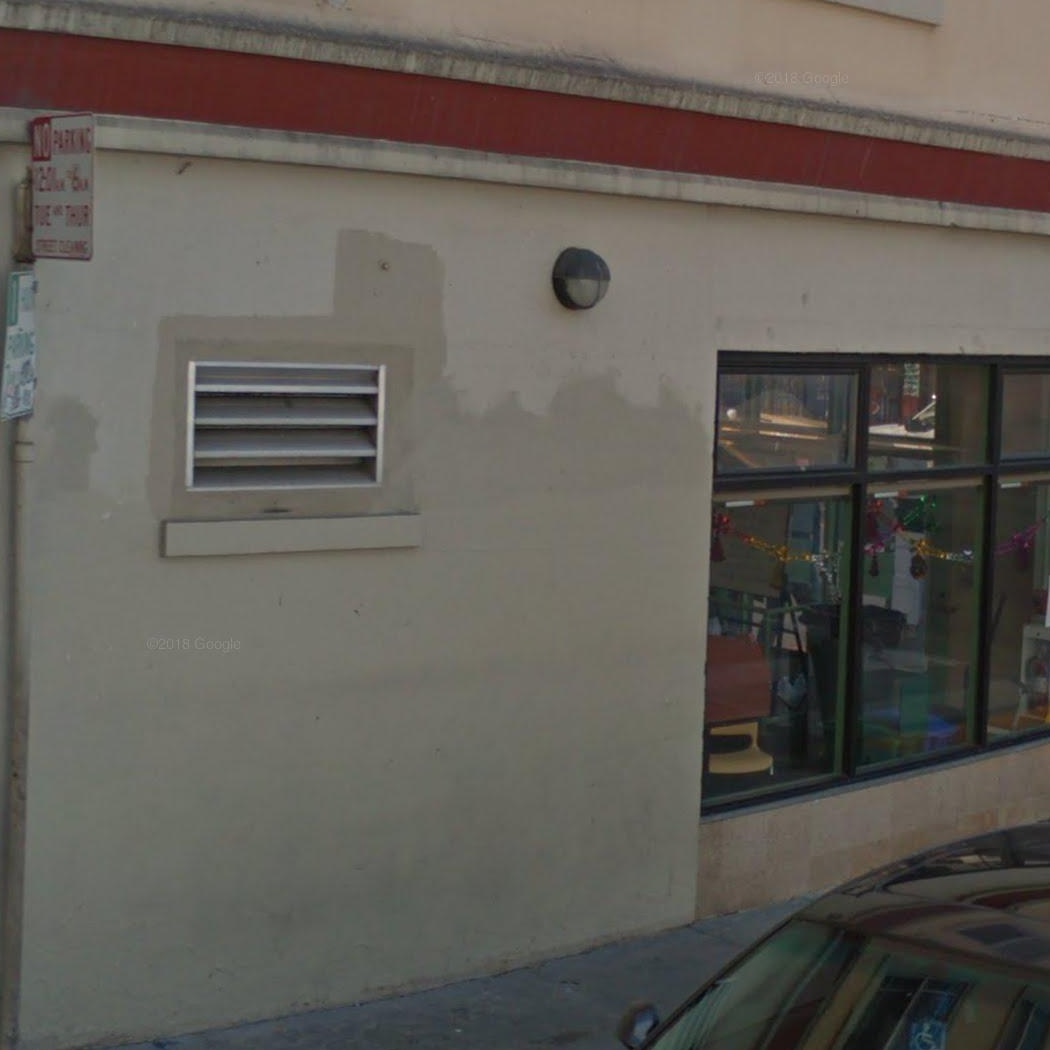1 Hour Parking: (2, 271, 40, 417)
No Parking: (27, 112, 96, 262)
